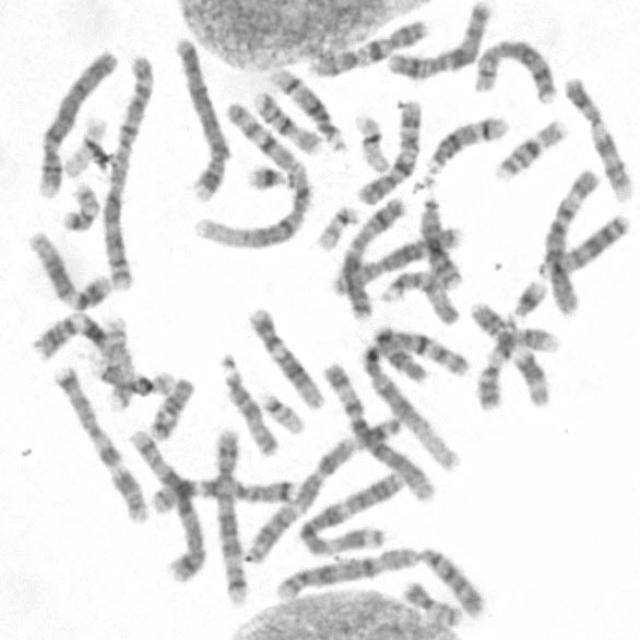A1: (191, 98, 312, 251), (362, 322, 468, 476)
A2: (275, 545, 486, 622), (98, 52, 155, 294)
A3: (242, 418, 406, 563), (296, 466, 405, 556)
B4: (33, 44, 119, 200), (170, 33, 230, 204)
B5: (125, 424, 208, 584), (210, 424, 251, 608)
C10: (352, 95, 422, 207), (310, 19, 429, 80)
C11: (465, 300, 553, 409), (26, 308, 126, 363)
C12: (245, 302, 326, 412), (24, 226, 113, 311)
C6: (320, 358, 438, 503), (540, 165, 602, 317)
C7: (50, 361, 151, 524), (147, 476, 305, 515)
C8: (328, 222, 464, 298), (469, 36, 558, 104)
C9: (562, 74, 632, 203), (476, 324, 563, 414)
D13: (534, 208, 630, 281)
D14: (264, 64, 348, 155), (421, 111, 510, 178)
D15: (216, 350, 281, 458), (377, 266, 462, 326)
E16: (490, 115, 569, 182), (249, 87, 322, 157)
E17: (88, 360, 174, 402), (106, 316, 139, 414)
E18: (372, 324, 432, 386), (145, 372, 197, 442)
F19: (59, 114, 110, 178), (351, 109, 391, 174)
F20: (398, 576, 464, 628), (58, 178, 101, 233)
G21: (507, 275, 548, 320), (244, 160, 294, 193)
G22: (313, 202, 362, 252), (259, 388, 307, 435)
X: (383, 0, 492, 80), (338, 194, 407, 318)
